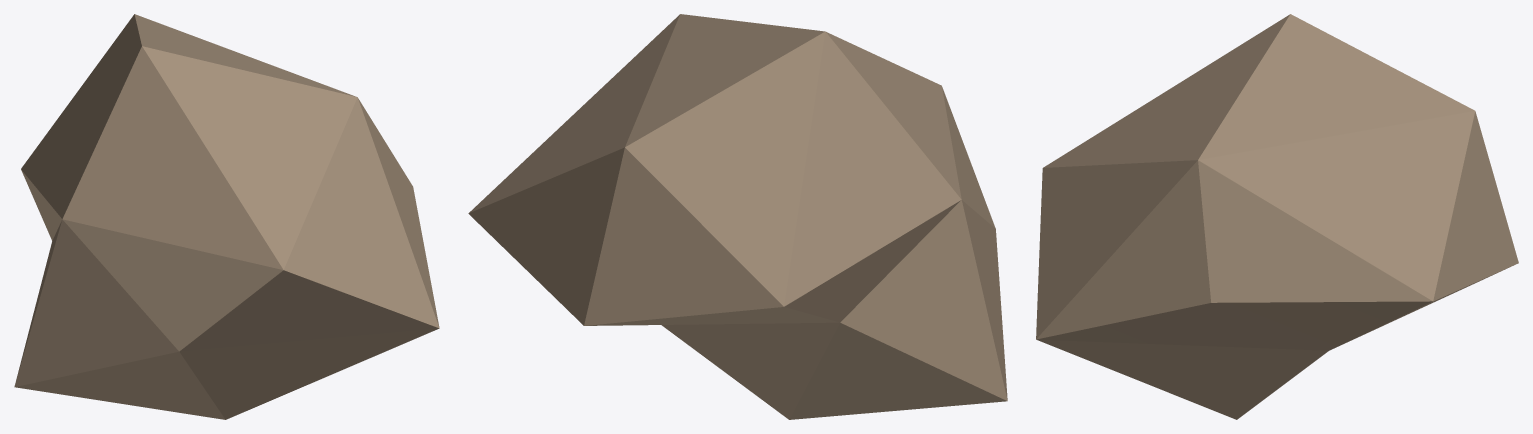
Rendered from Debris.obj.
3 renders of one model, left to right at view 1: azimuth 30°, elevation 25°; view 2: azimuth 150°, elevation 25°; view 3: azimuth 270°, elevation 25°, orthographic. The views are drawn at different scales.
Parts seen in each view (by area): view 1: Null; view 2: Null; view 3: Null.
Boxes of the visible parts, bbox=[...] form: Null: bbox=[14, 14, 439, 419]; Null: bbox=[468, 14, 1007, 419]; Null: bbox=[1036, 14, 1518, 419].
Bounding box in the file's own units: 191 × 177 × 205.
